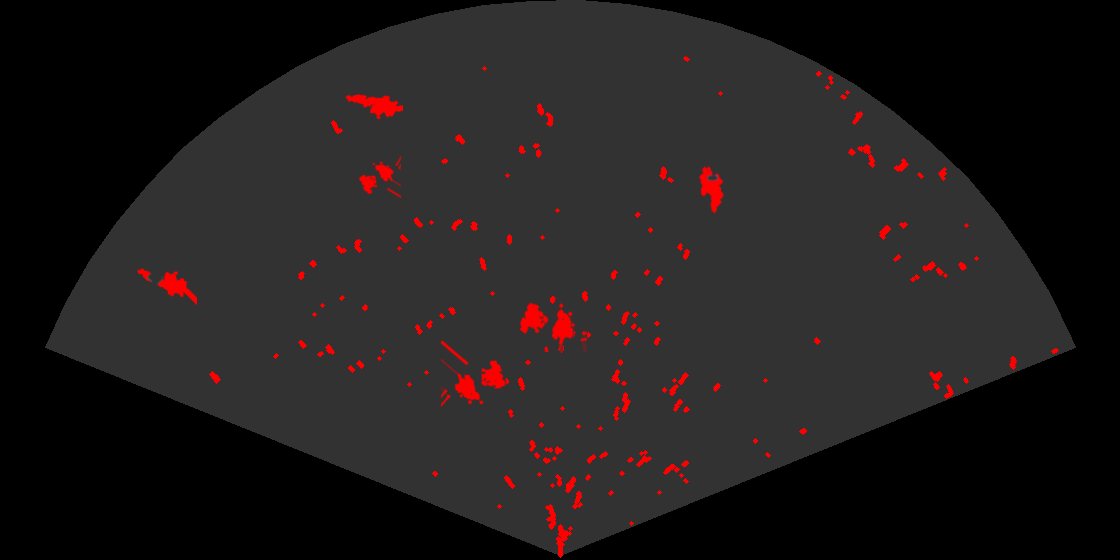AUV: (697, 164, 725, 215)
cage: (441, 341, 507, 409), (518, 301, 587, 352), (357, 154, 401, 200)
frogman: (136, 267, 197, 307), (344, 93, 403, 121)
